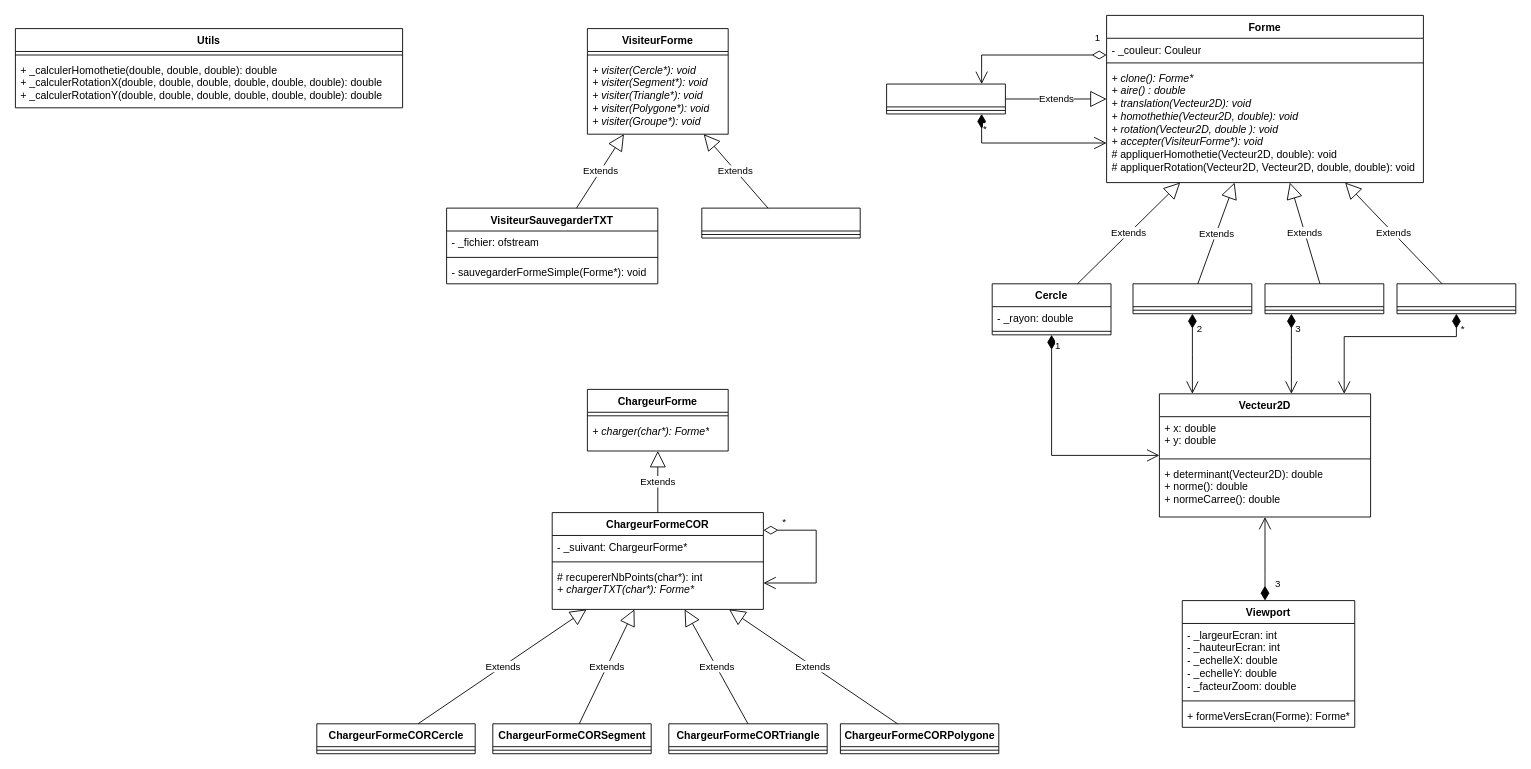
Some shapes in this 1531 by 769 pixel diagram are drawn without their labels. The centre of each missing label's shape, as x and y in pixels:
Groupe: (x=945, y=98)
Polygone: (x=1456, y=298)
Segment: (x=1192, y=298)
Triangle: (x=1324, y=298)
VisiteurDessinerTCP: (x=780, y=222)
